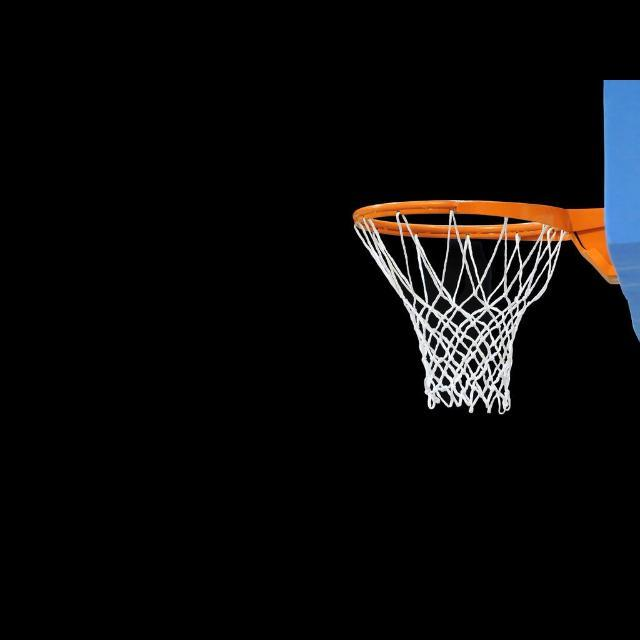rim: (354, 198, 566, 414)
